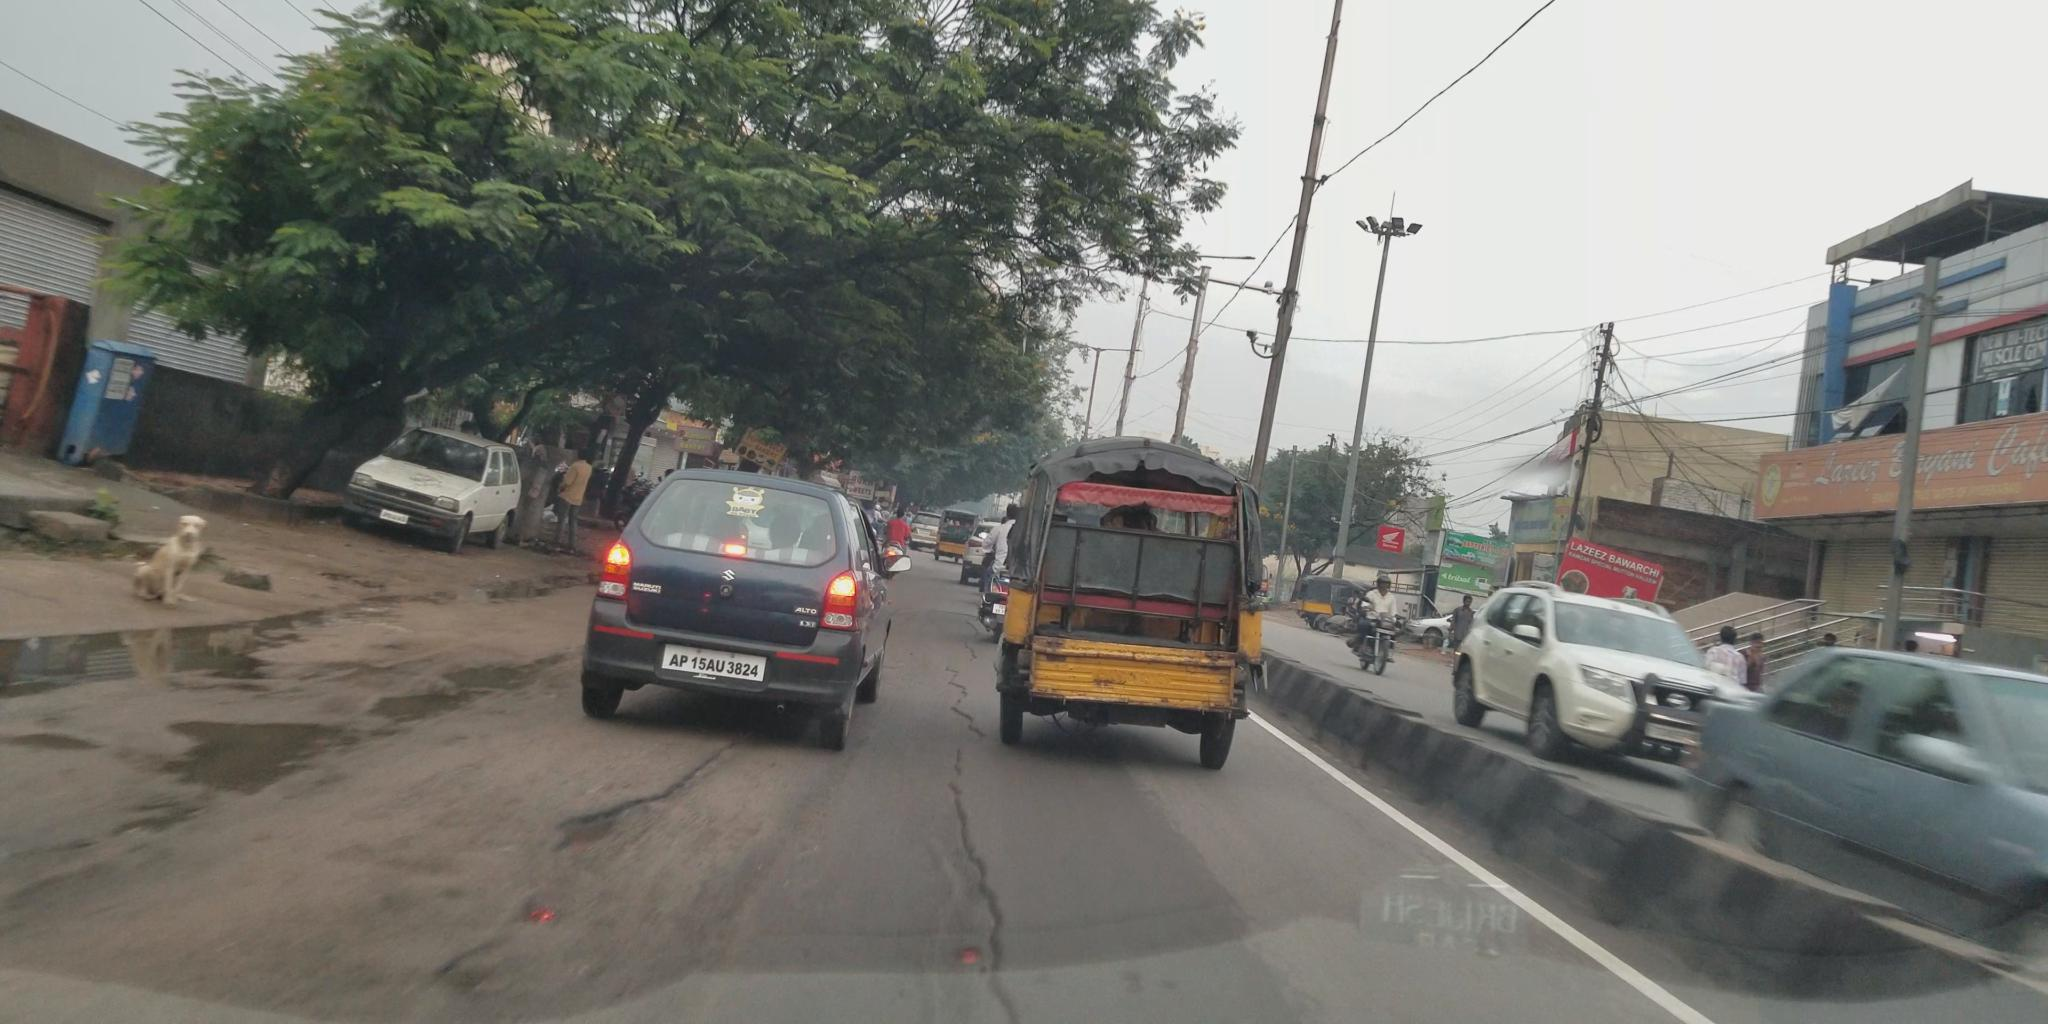off: (10, 0, 2048, 1024)
